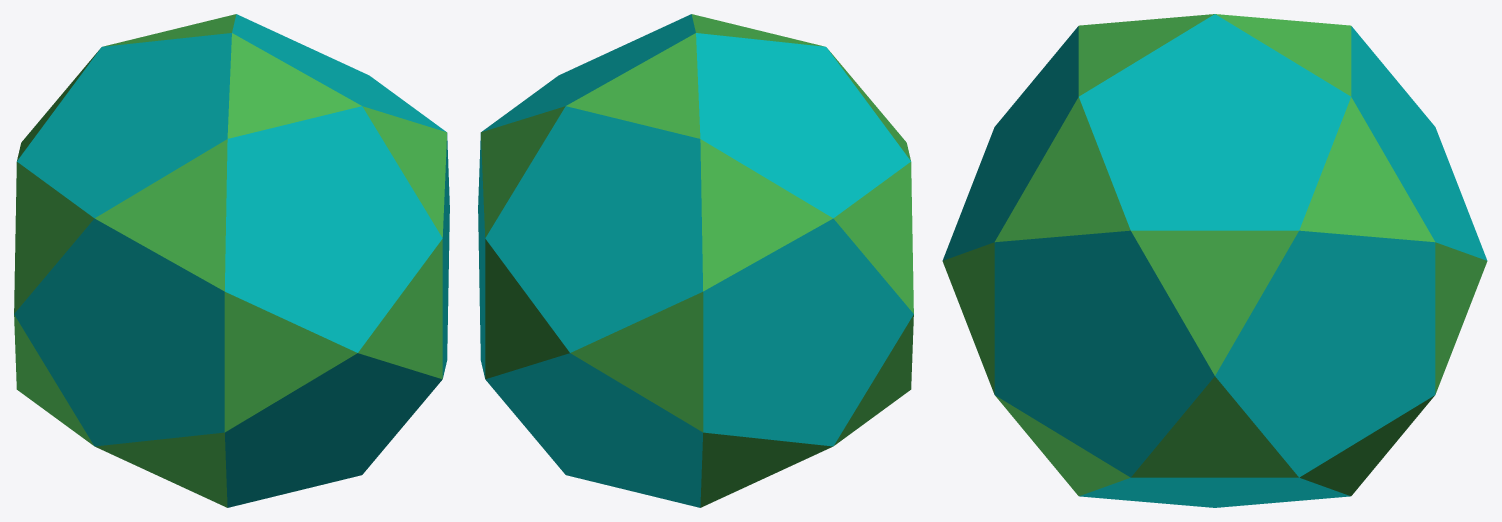
File: 7.Icosidodecahedro.gltf
3 renders of one model, left to right at view 1: azimuth 30°, elevation 25°; view 2: azimuth 150°, elevation 25°; view 3: azimuth 270°, elevation 25°, orthographic. The views are drawn at different scales.
Parts seen in each view (by area): view 1: Solid; view 2: Solid; view 3: Solid.
Boxes of the visible parts, x1=… form: Solid: x1=14, y1=14, x2=449, y2=507; Solid: x1=478, y1=14, x2=913, y2=507; Solid: x1=942, y1=14, x2=1487, y2=507.
Size of the model in its own units: 1.87 by 1.87 by 1.87.
